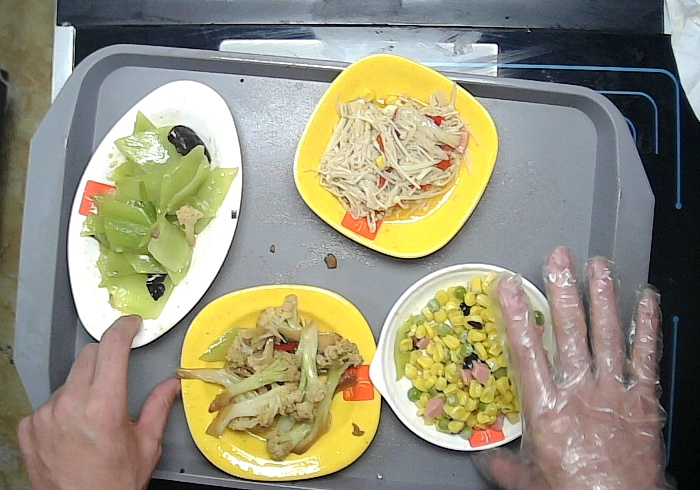SHKJ-Bao_Yu_Pan: (368, 264, 576, 457)
SHKJ-Huang_Se_Cai_Die: (293, 53, 498, 259)
SHKJ-Huang_Se_Si_Fang_Cai_Die: (179, 286, 384, 479)
SHKJ-Yu_Pan: (67, 80, 244, 350)
